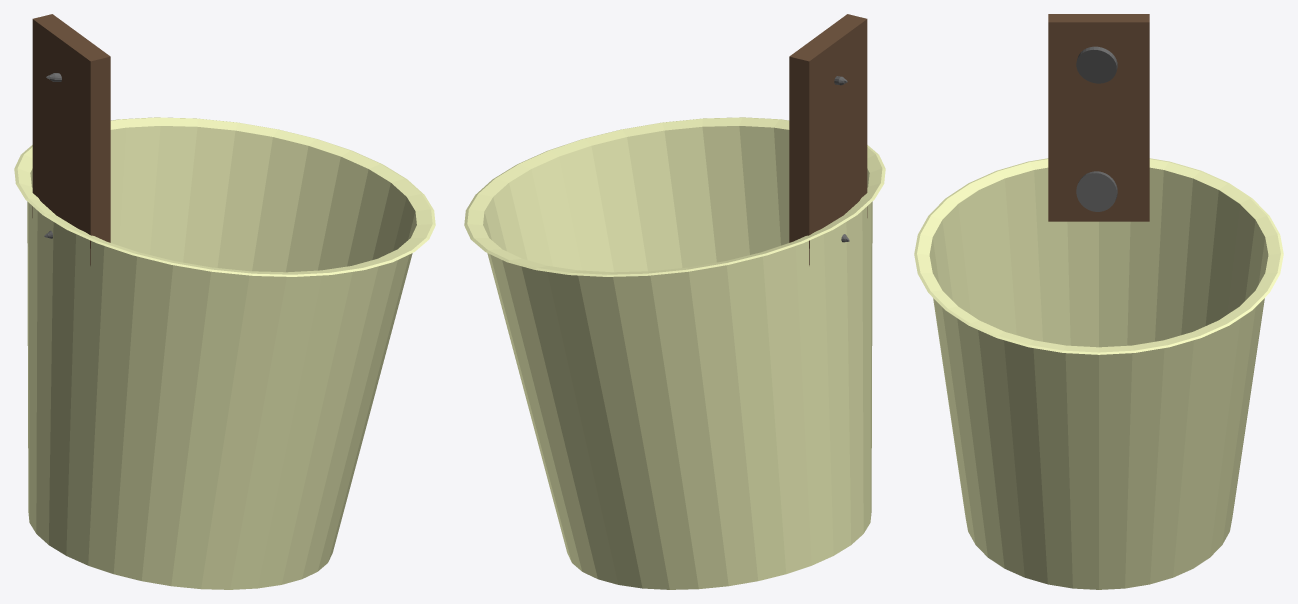
Rendered from basurinha.fbx.
3 renders of one model, left to right at view 1: azimuth 30°, elevation 25°; view 2: azimuth 150°, elevation 25°; view 3: azimuth 270°, elevation 25°, orthographic. The views are drawn at different scales.
Visible parts, largest first — view 1: Basura, PlanchaMadera; view 2: Basura, PlanchaMadera; view 3: Basura, PlanchaMadera.
Boxes of the visible parts, left/top/right/bottom form: Basura: left=14, top=117, right=435, bottom=589; PlanchaMadera: left=32, top=14, right=110, bottom=265; Basura: left=464, top=117, right=885, bottom=589; PlanchaMadera: left=789, top=14, right=867, bottom=265; Basura: left=914, top=158, right=1283, bottom=589; PlanchaMadera: left=1048, top=14, right=1149, bottom=221.
Bounding box in the file's own units: 82.23 × 116 × 83.03.
